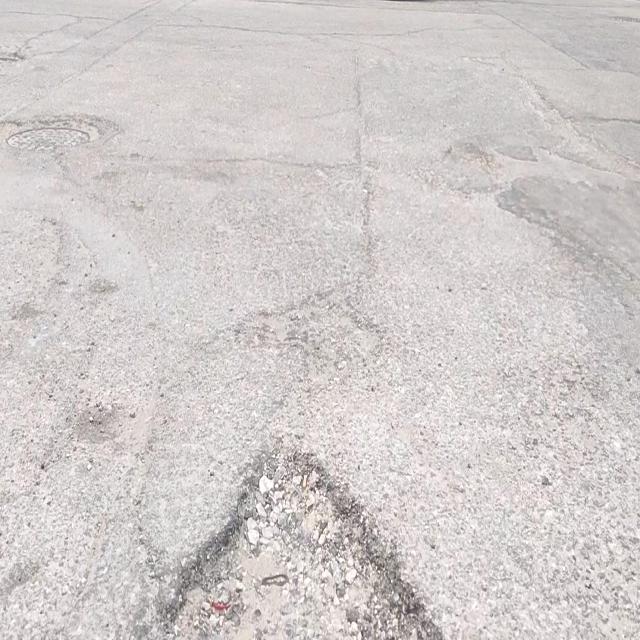Potholes: (130, 443, 448, 640)
